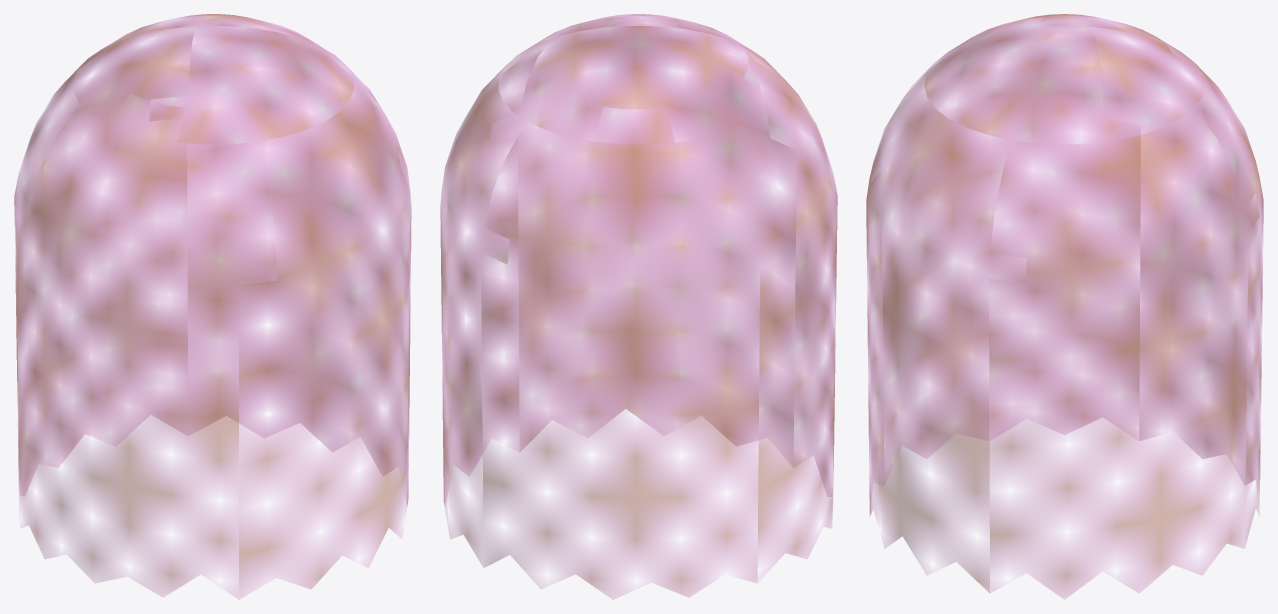
File: ghost-red.glb
3 renders of one model, left to right at view 1: azimuth 30°, elevation 25°; view 2: azimuth 150°, elevation 25°; view 3: azimuth 270°, elevation 25°, orthographic.
Parts seen in each view (by area): view 1: Sphere; view 2: Sphere; view 3: Sphere.
Boxes of the visible parts, x1=… form: Sphere: x1=14, y1=14, x2=411, y2=599; Sphere: x1=440, y1=14, x2=837, y2=599; Sphere: x1=866, y1=14, x2=1263, y2=599.
Bounding box in the file's own units: 0.6996 × 0.9419 × 0.6996.
1 material, 1 textured.
